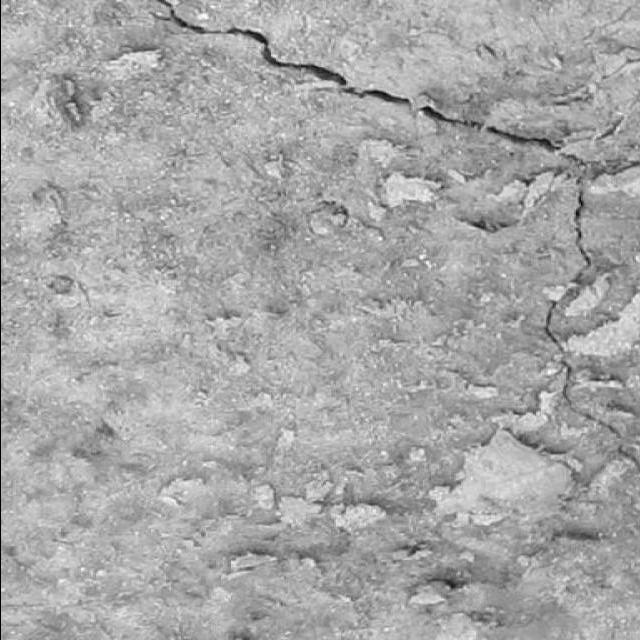SurfaceCrack: (8, 1, 638, 288)
